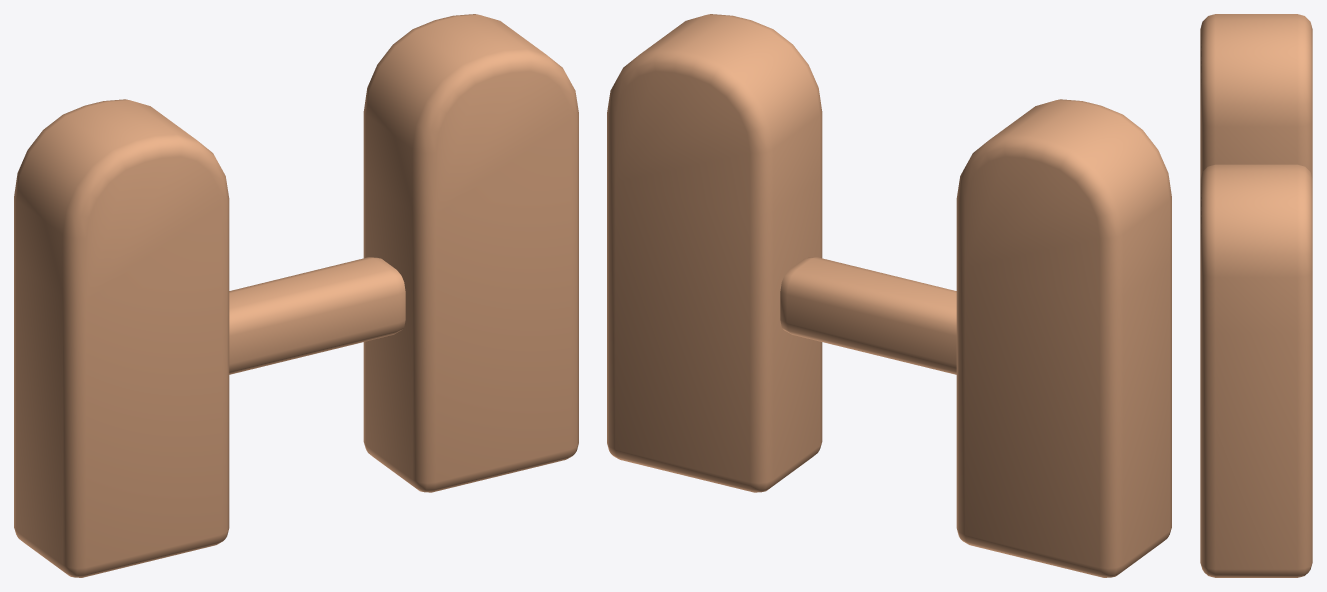
File: Fence.fbx
3 views of the same model, side by side, from view 1: azimuth 30°, elevation 25°; view 2: azimuth 150°, elevation 25°; view 3: azimuth 270°, elevation 25° (orthographic). The views are drawn at different scales.
Parts seen in each view (by area): view 1: Fence; view 2: Fence; view 3: Fence.
Part boxes in pixels (x1,y1,x2,y2): Fence: [14, 14, 578, 577]; Fence: [607, 14, 1171, 577]; Fence: [1200, 14, 1312, 577].
Size of the model in its own units: 0.4416 by 0.3466 by 0.0947.
